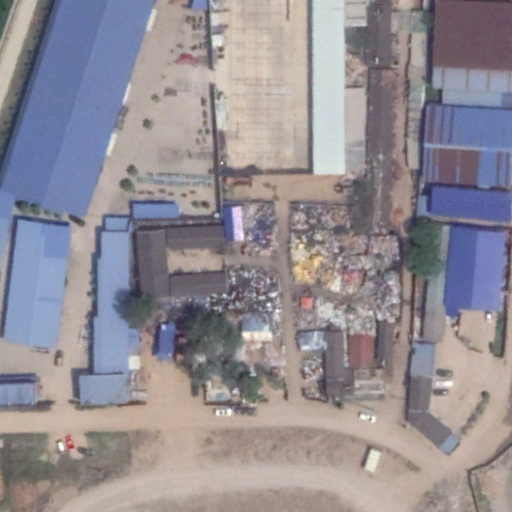msw: (226, 204, 403, 337)
